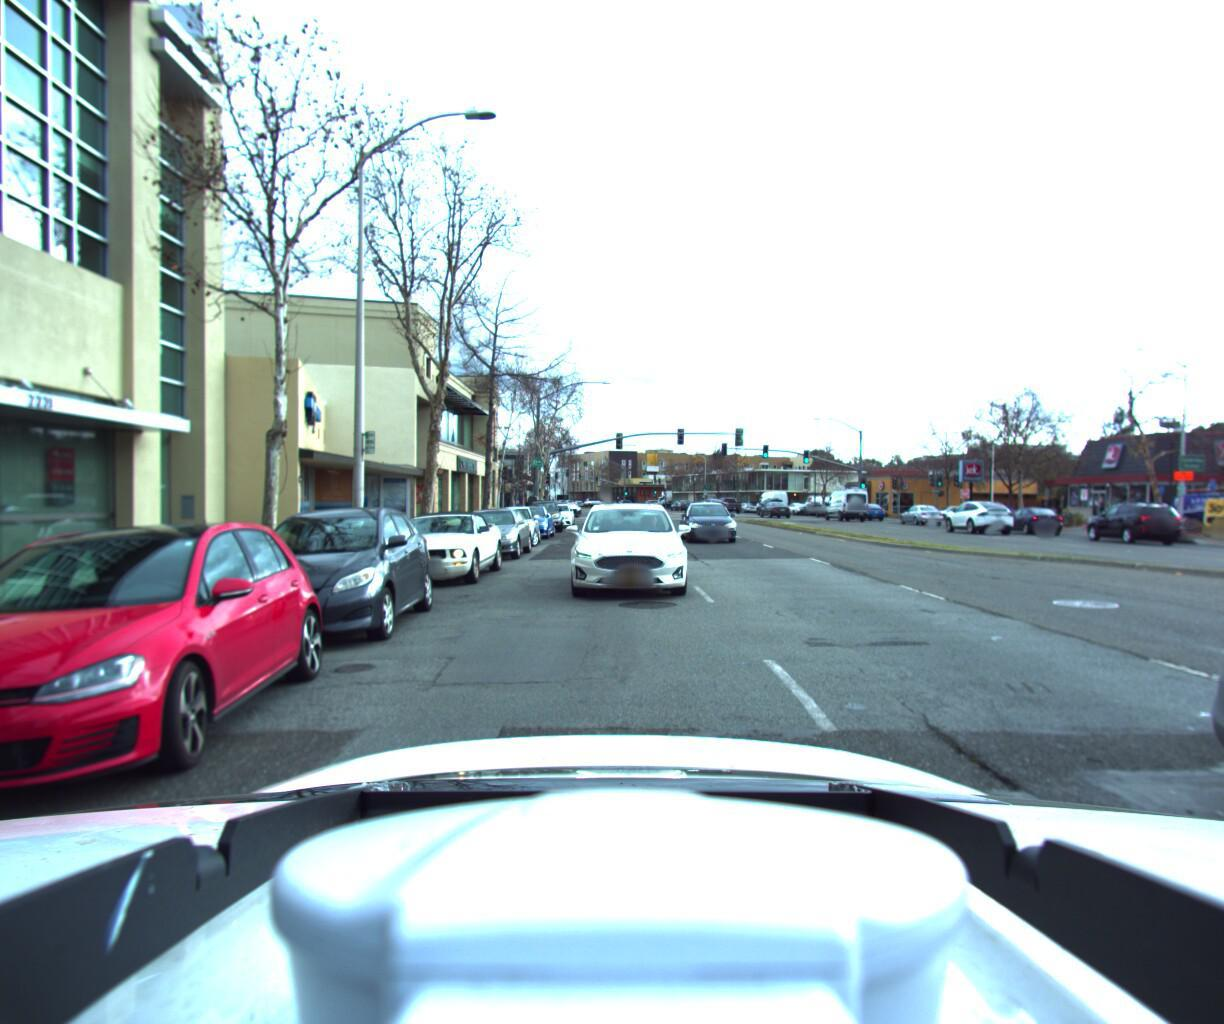car: (203, 504, 441, 659), (567, 501, 696, 602), (367, 509, 506, 592), (446, 506, 531, 565), (1074, 499, 1182, 543), (1081, 500, 1192, 542), (1162, 482, 1224, 530), (680, 500, 744, 545), (480, 506, 540, 550), (933, 497, 1007, 532), (499, 505, 557, 542), (995, 507, 1063, 535), (818, 486, 867, 520), (522, 499, 566, 534), (897, 505, 944, 526), (539, 502, 574, 528), (849, 503, 885, 520)
